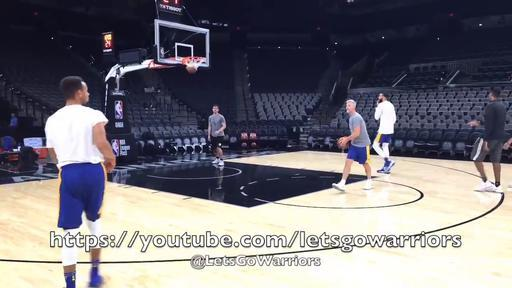ball: (338, 136, 350, 148), (186, 67, 196, 73)
human: (45, 76, 116, 288), (466, 84, 506, 192), (332, 100, 374, 192), (372, 92, 396, 173), (208, 105, 226, 166)
rim: (184, 57, 205, 71)
